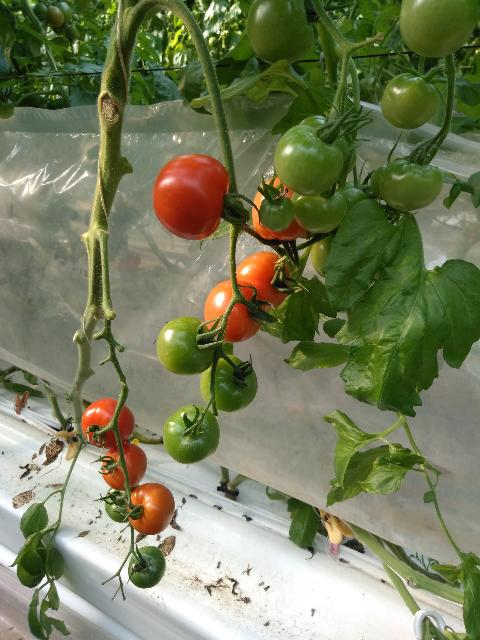l_fully_ripened: (152, 153, 230, 241), (81, 398, 135, 449), (102, 442, 147, 491)
l_green: (274, 124, 345, 197), (399, 0, 479, 59), (247, 0, 314, 67), (156, 316, 216, 376), (200, 354, 259, 413), (163, 405, 220, 465), (380, 158, 443, 212), (382, 73, 439, 130), (292, 186, 348, 233), (297, 116, 349, 163), (128, 545, 166, 589), (311, 227, 339, 278), (105, 485, 139, 524), (259, 196, 295, 232), (335, 182, 375, 213), (371, 164, 388, 200)
l_half_ripened: (205, 279, 265, 343), (252, 177, 309, 241), (236, 251, 291, 310), (127, 483, 175, 535)
